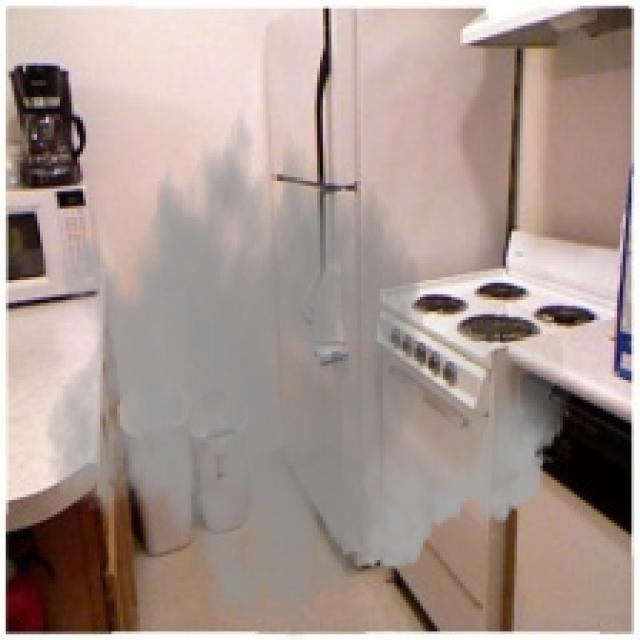smoke: (43, 83, 574, 637)
